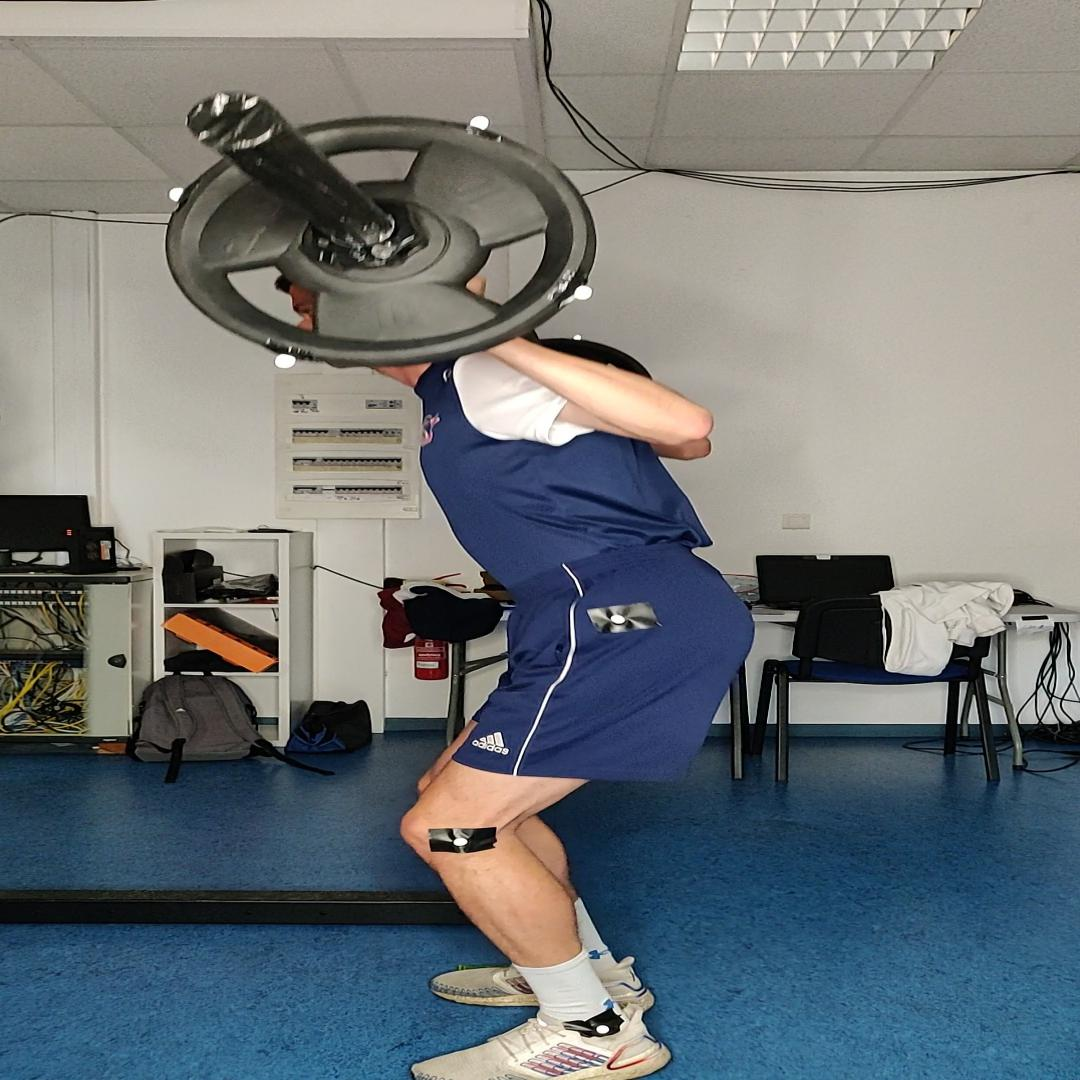Bar: (186, 91, 282, 150)
Barbell: (166, 115, 596, 368)
